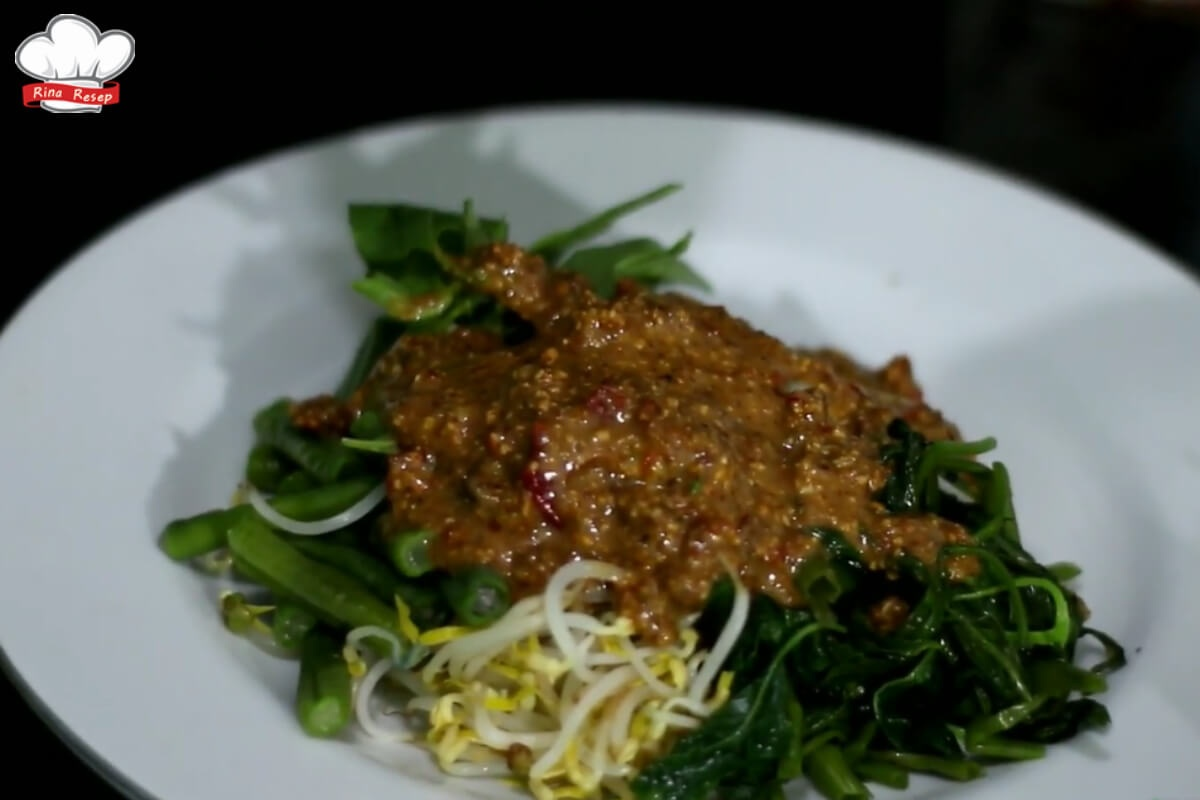pecel: (180, 205, 1090, 783)
